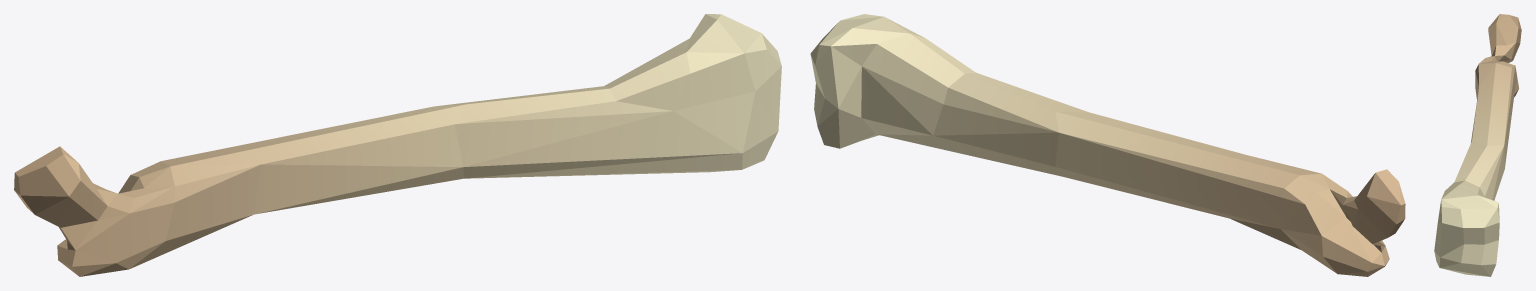
File: femur.fbx
3 renders of one model, left to right at view 1: azimuth 30°, elevation 25°; view 2: azimuth 150°, elevation 25°; view 3: azimuth 270°, elevation 25°, orthographic. The views are drawn at different scales.
Parts seen in each view (by area): view 1: Femur; view 2: Femur; view 3: Femur.
Boxes of the visible parts, bbox=[...] form: Femur: bbox=[14, 14, 781, 276]; Femur: bbox=[810, 14, 1405, 276]; Femur: bbox=[1434, 14, 1521, 276].
Bounding box in the file's own units: 49.42 × 9.56 × 9.11.
